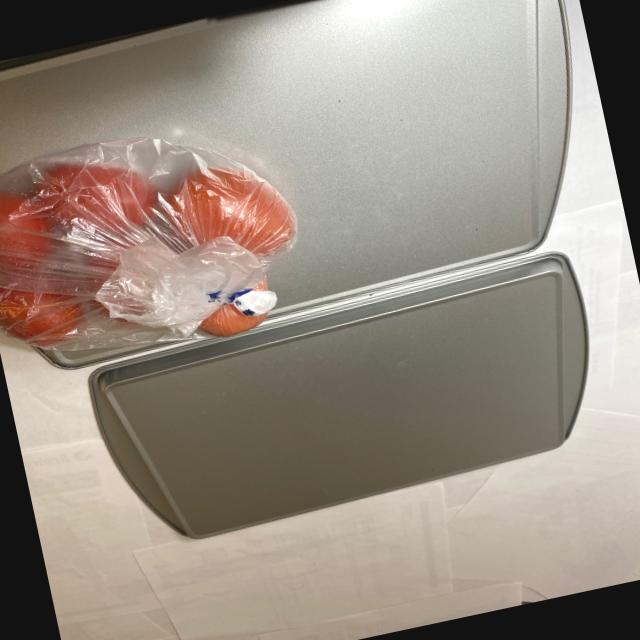tomato: (0, 110, 309, 383)
